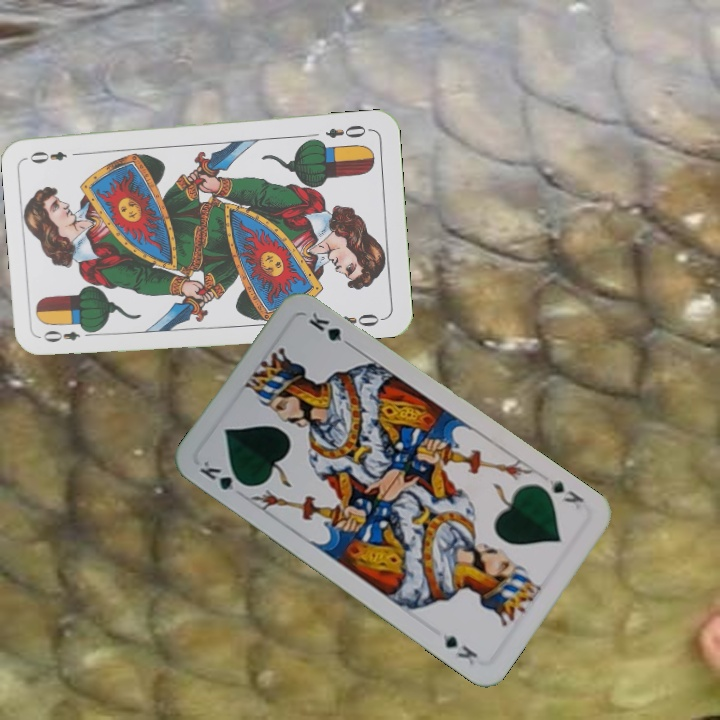EO: (39, 323, 97, 345), (321, 121, 374, 141)
GK: (195, 454, 251, 495), (542, 475, 587, 506)
